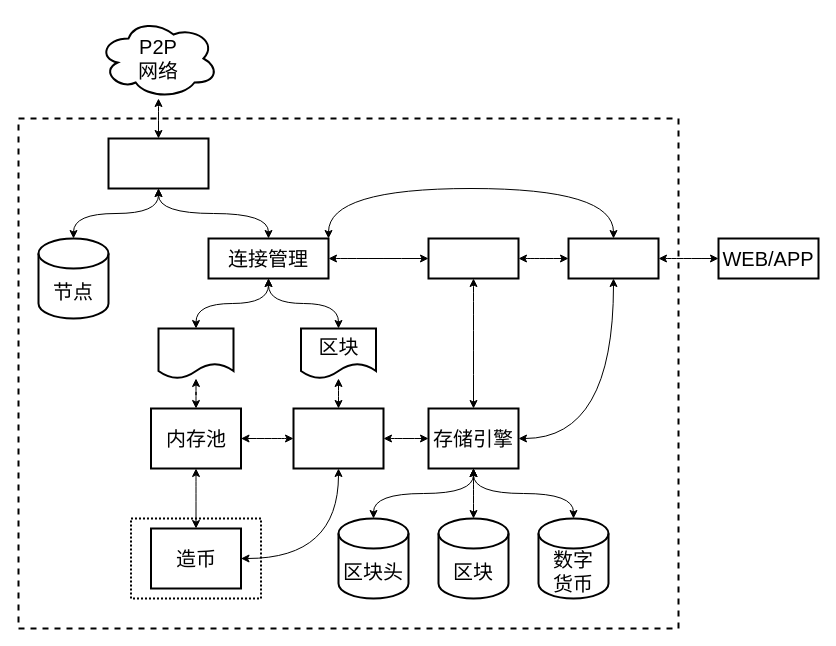
The diagram is 836 pixels wide and 646 high, and some of its shapes have lost their labels. The centre of each missing label's shape, as x and y in pixels:
"RPC" belongs at point 613,258.
"交易" belongs at point 195,353.
"节点发现" belongs at point 158,163.
"钱包" belongs at point 473,258.
"验证引擎" belongs at point 338,438.
